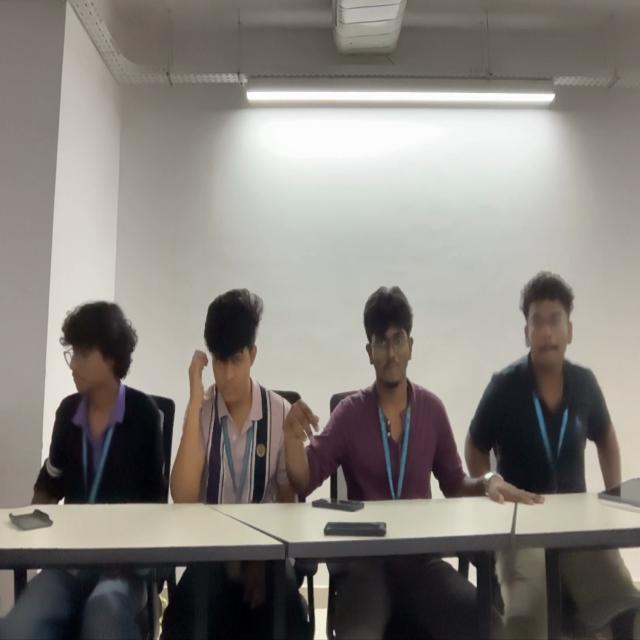Isolated: (465, 270, 622, 496), (319, 278, 441, 494), (44, 294, 159, 506), (178, 286, 288, 494)
